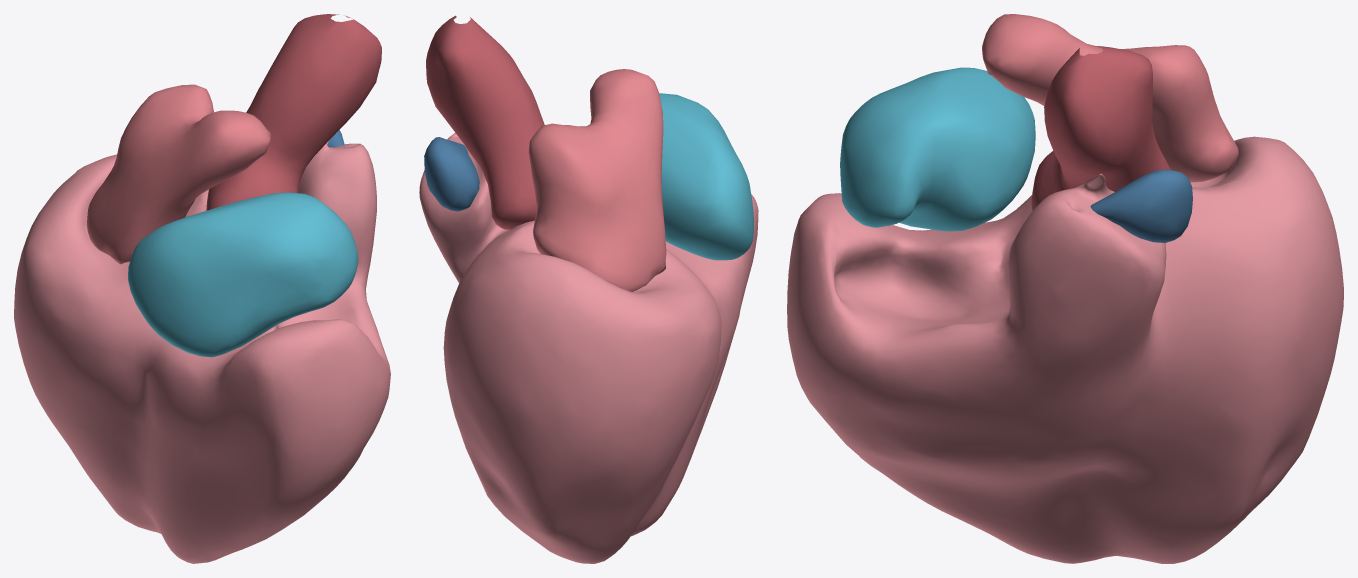
Rendered from frame_53.glb.
The picture shows the model from 3 angles, left to right: view 1: azimuth 30°, elevation 25°; view 2: azimuth 150°, elevation 25°; view 3: azimuth 270°, elevation 25°; orthographic projection. The views are drawn at different scales.
Parts seen in each view (by area): view 1: Renderer Node; view 2: Renderer Node; view 3: Renderer Node.
Part boxes in pixels (<box>): Renderer Node: <box>14,14,390,563</box>; Renderer Node: <box>419,15,758,563</box>; Renderer Node: <box>787,14,1343,563</box>.
Bounding box in the file's own units: 107 × 164 × 137.
